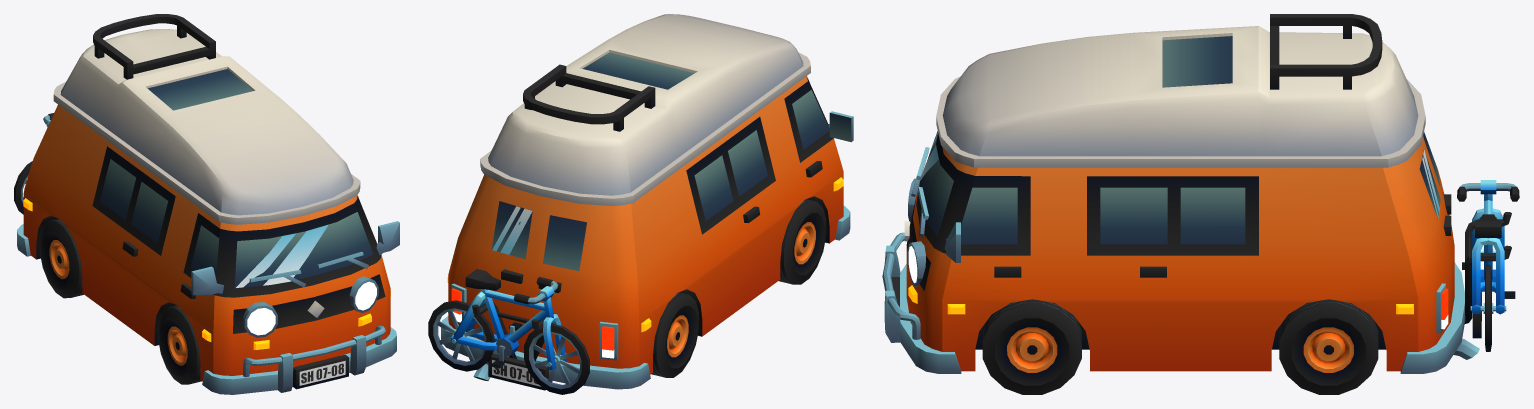
Rendered from van.fbx.
The picture shows the model from 3 angles, left to right: view 1: azimuth 30°, elevation 25°; view 2: azimuth 150°, elevation 25°; view 3: azimuth 270°, elevation 25°; orthographic projection. The views are drawn at different scales.
Parts seen in each view (by area): view 1: van; view 2: van; view 3: van.
Boxes of the visible parts, x1=… form: van: x1=14, y1=14, x2=399, y2=394; van: x1=428, y1=14, x2=853, y2=394; van: x1=882, y1=14, x2=1519, y2=394.
Size of the model in its own units: 2.33 by 2.57 by 4.96.
Materials: 1 (1 with a texture image).
